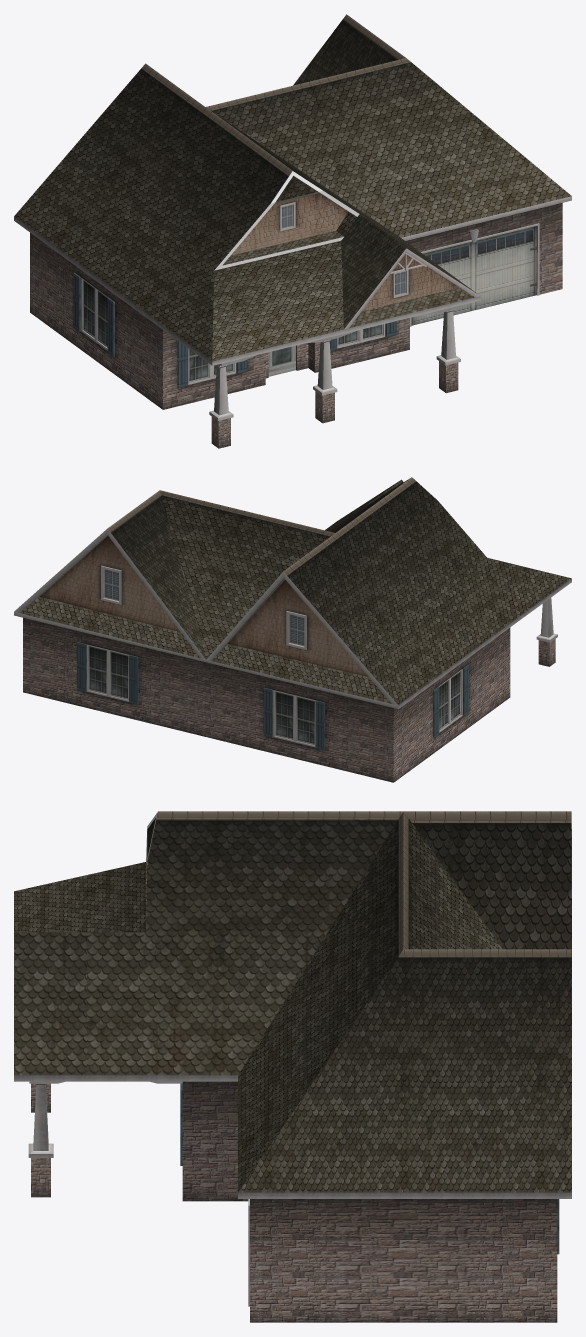
Rendered from House03.dae.
3 views of the same model, one above another, from view 1: azimuth 30°, elevation 25°; view 2: azimuth 150°, elevation 25°; view 3: azimuth 270°, elevation 25° (orthographic). The views are drawn at different scales.
Parts seen in each view (by area): view 1: Sphere04; view 2: Sphere04; view 3: Sphere04.
Boxes of the visible parts, x1,y1,x2,y2 form: Sphere04: [14, 14, 571, 448]; Sphere04: [14, 477, 571, 782]; Sphere04: [14, 811, 571, 1322].
Bounding box in the file's own units: 1123 × 878 × 527.
Materials: 10 (9 with a texture image).
